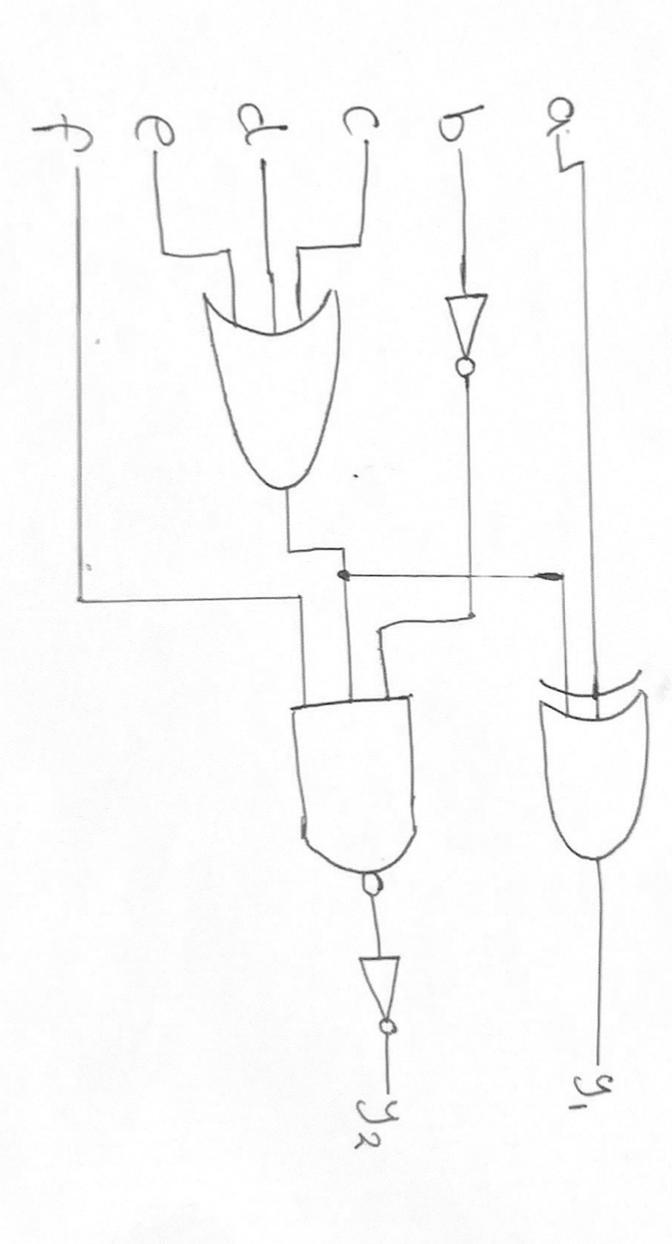NAND: (257, 692, 464, 903)
NOT: (337, 935, 432, 1054), (435, 272, 510, 389)
OR: (180, 287, 374, 506)
XOR: (517, 663, 666, 868)
